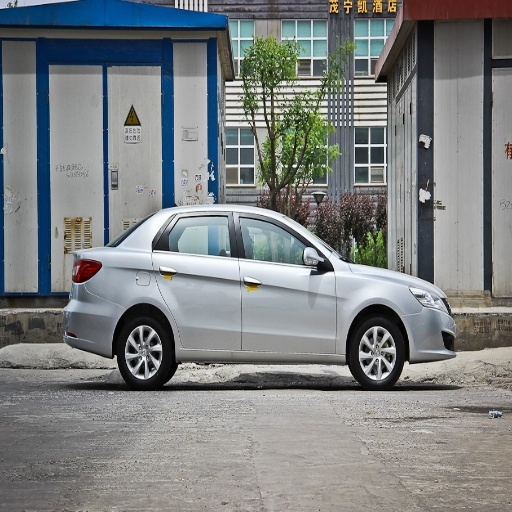back_right_door: (155, 211, 239, 349)
front_right_door: (237, 212, 336, 350)
